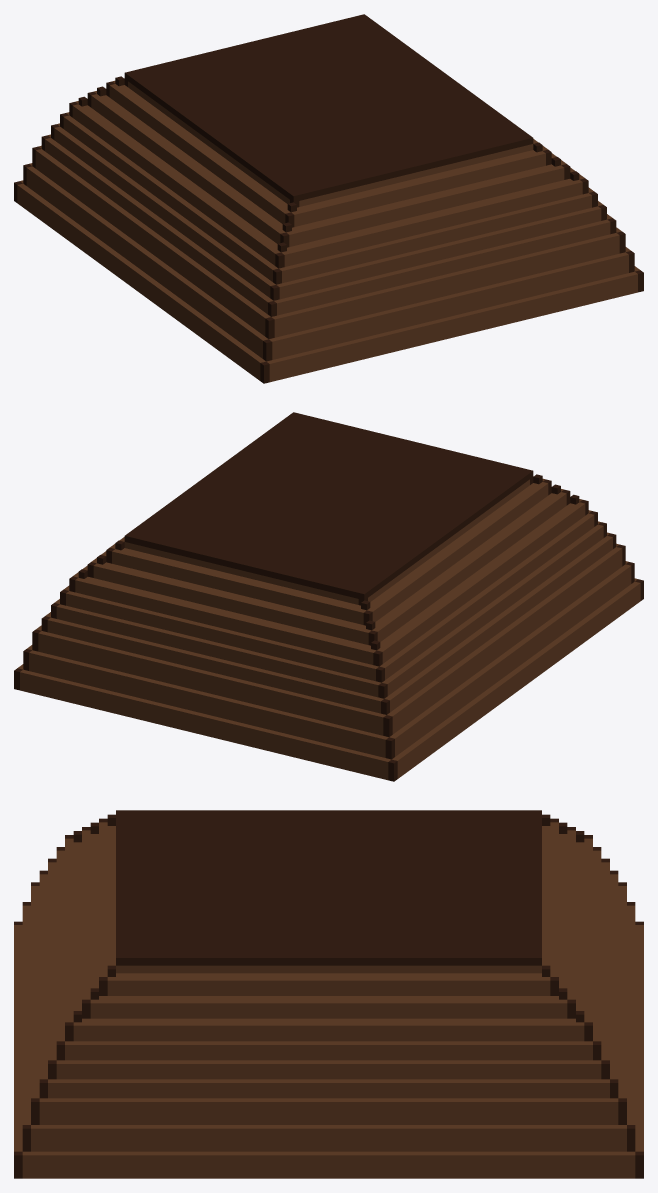
Rendered from roof_simple_brown_cube.obj.
The picture shows the model from 3 angles, top to bottom: view 1: azimuth 30°, elevation 25°; view 2: azimuth 150°, elevation 25°; view 3: azimuth 270°, elevation 25°; orthographic projection. The views are drawn at different scales.
Bounding box in the file's own units: 6.5 × 2.3 × 7.4.
Materials: 1 (1 with a texture image).
